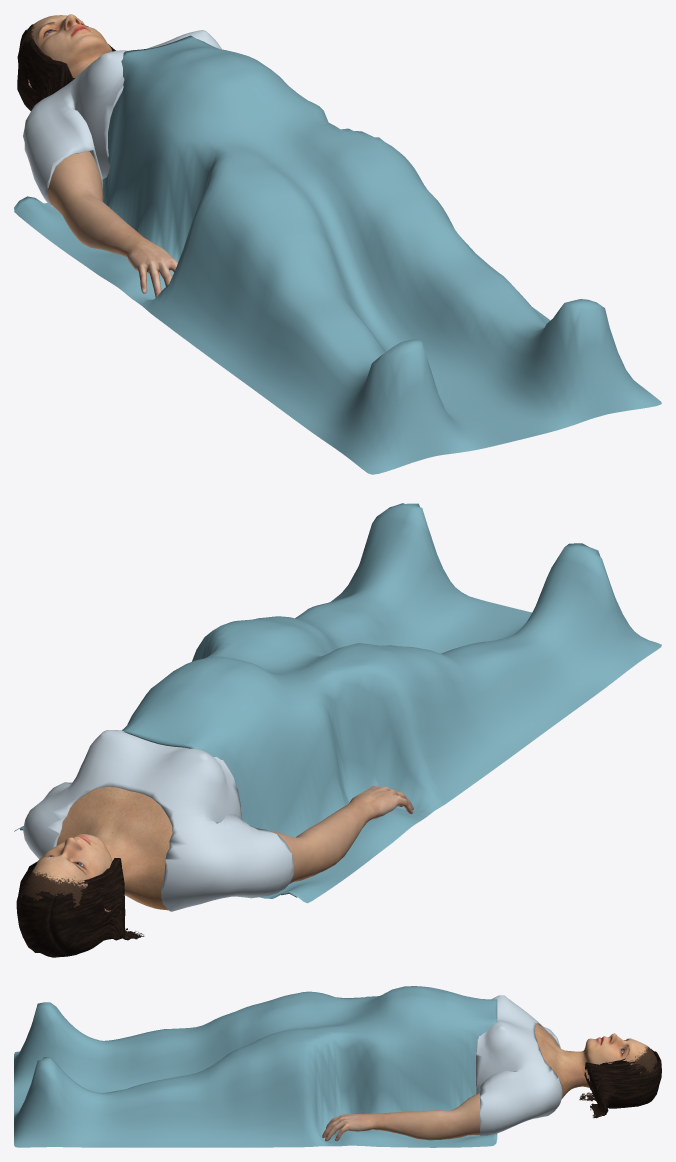
3 renders of one model, top to bottom at view 1: azimuth 30°, elevation 25°; view 2: azimuth 150°, elevation 25°; view 3: azimuth 270°, elevation 25°, orthographic. The views are drawn at different scales.
Parts seen in each view (by area): view 1: sheet, gown, arms, body, hair; view 2: sheet, gown, body, hair, arms; view 3: sheet, gown, arms, body, hair.
Boxes of the visible parts, <box> form: sheet: <box>14,35,661,474</box>; gown: <box>23,30,221,207</box>; arms: <box>47,151,177,297</box>; body: <box>21,14,112,88</box>; hair: <box>17,24,116,110</box>; sheet: <box>14,503,661,903</box>; gown: <box>23,730,293,911</box>; body: <box>21,787,172,912</box>; hair: <box>16,858,144,957</box>; arms: <box>271,786,413,883</box>; sheet: <box>14,986,497,1147</box>; gown: <box>476,995,562,1135</box>; arms: <box>322,1093,480,1141</box>; body: <box>535,1024,657,1098</box>; hair: <box>579,1049,661,1118</box>.
Size of the model in its own units: 0.6394 by 0.3336 by 1.82.
Materials: 8 (6 with a texture image).
